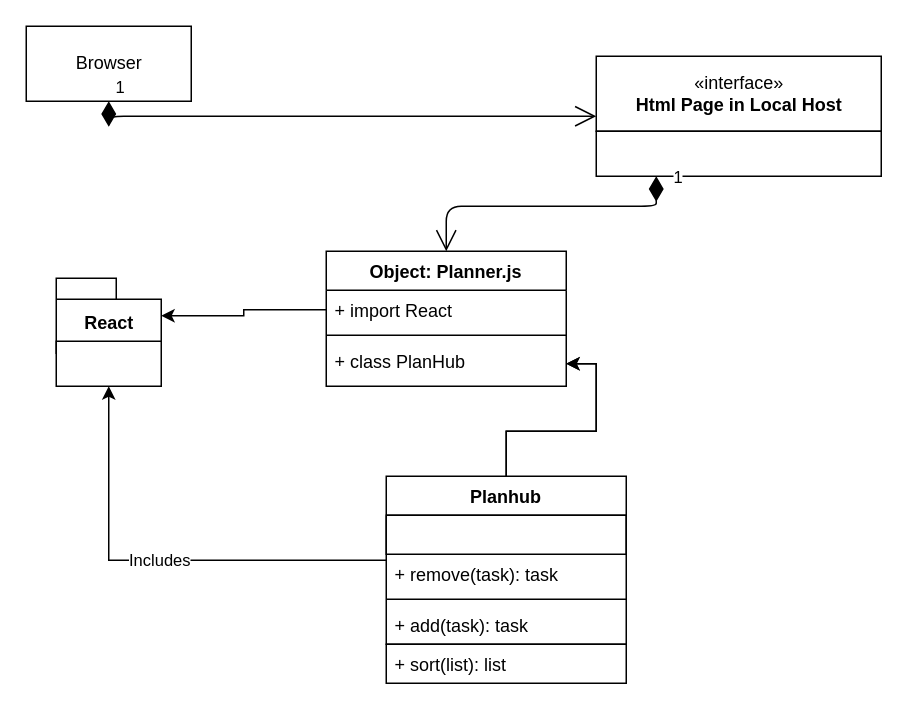
Some shapes in this 908 by 714 pixel diagram are drawn without their labels. Each missing label, with the centre of its shape:
+ render():: the point at 505,534
Component: the point at 108,363
Src: Planner.js: the point at 738,153
